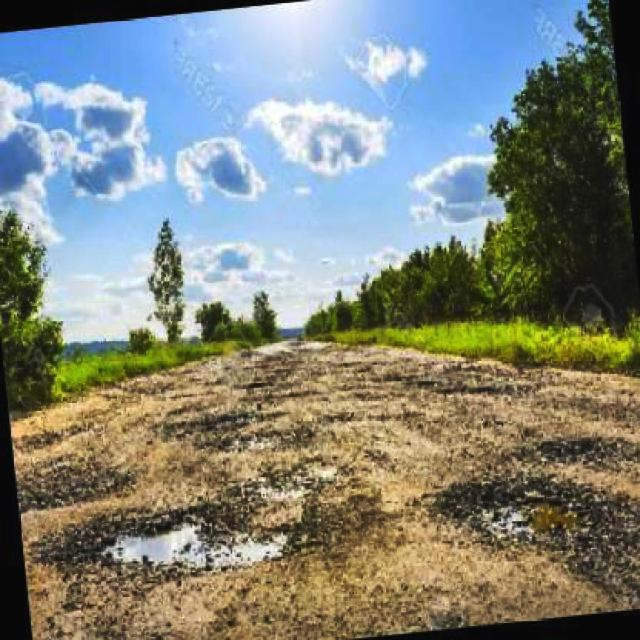pothole: (89, 511, 309, 566), (452, 482, 600, 558), (6, 466, 128, 511), (545, 428, 626, 468), (212, 434, 305, 455)
